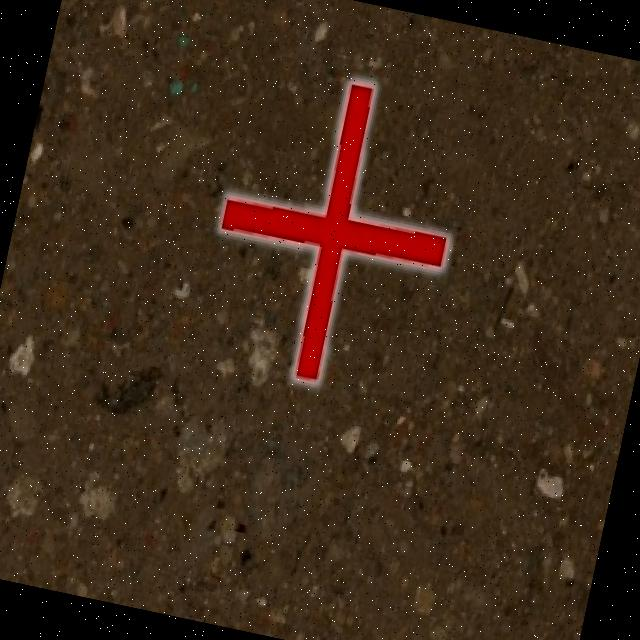x_marker: (193, 60, 475, 401)
